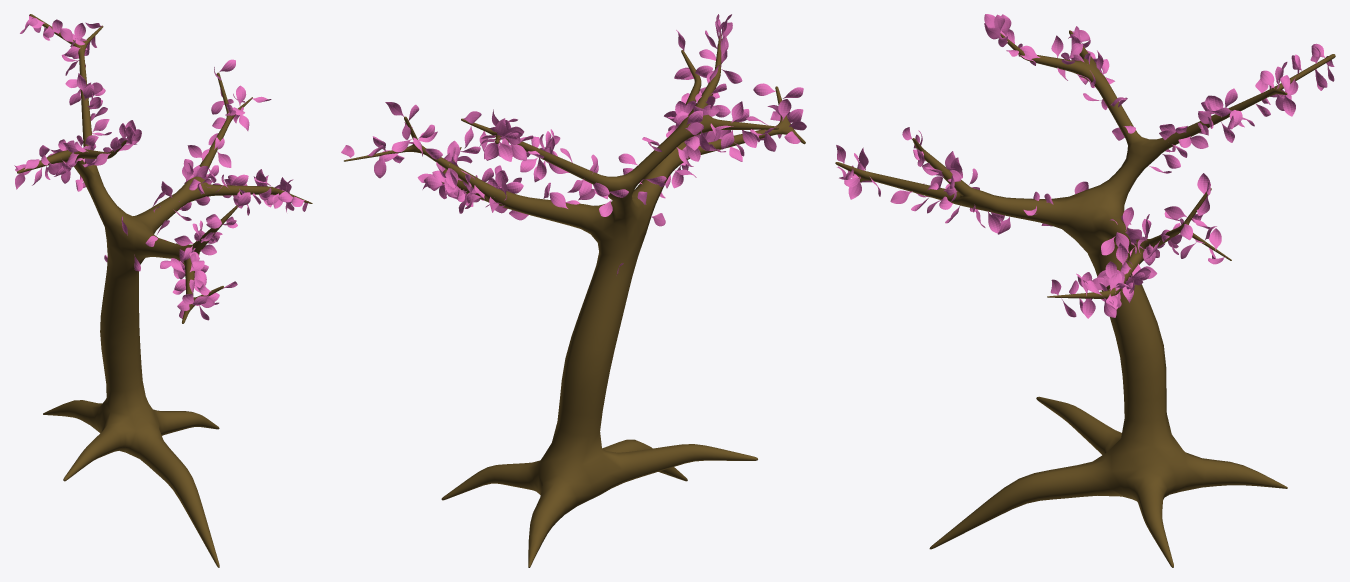
Rendered from Bahadori_Amanda_LongProject.fbx.
3 views of the same model, side by side, from view 1: azimuth 30°, elevation 25°; view 2: azimuth 150°, elevation 25°; view 3: azimuth 270°, elevation 25° (orthographic). The views are drawn at different scales.
Parts seen in each view (by area): view 1: 3_tree; view 2: 3_tree; view 3: 3_tree.
Part boxes in pixels (<box>): 3_tree: <box>17,14,312,567</box>; 3_tree: <box>344,33,805,567</box>; 3_tree: <box>835,30,1335,567</box>.
Size of the model in its own units: 908 by 1211 by 1091.
